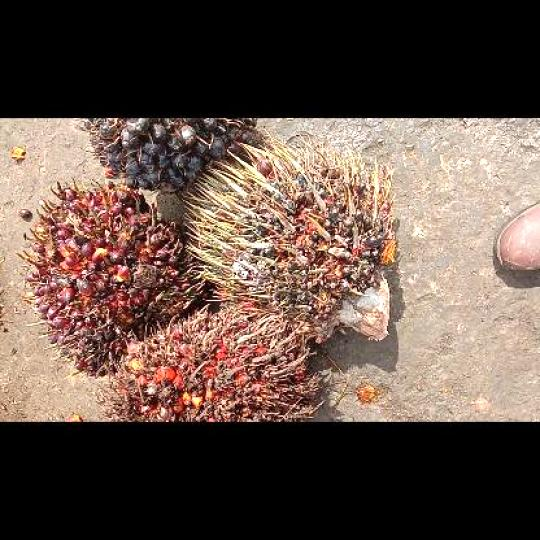masak: (18, 183, 203, 378)
terlalu masak: (114, 307, 318, 420)
